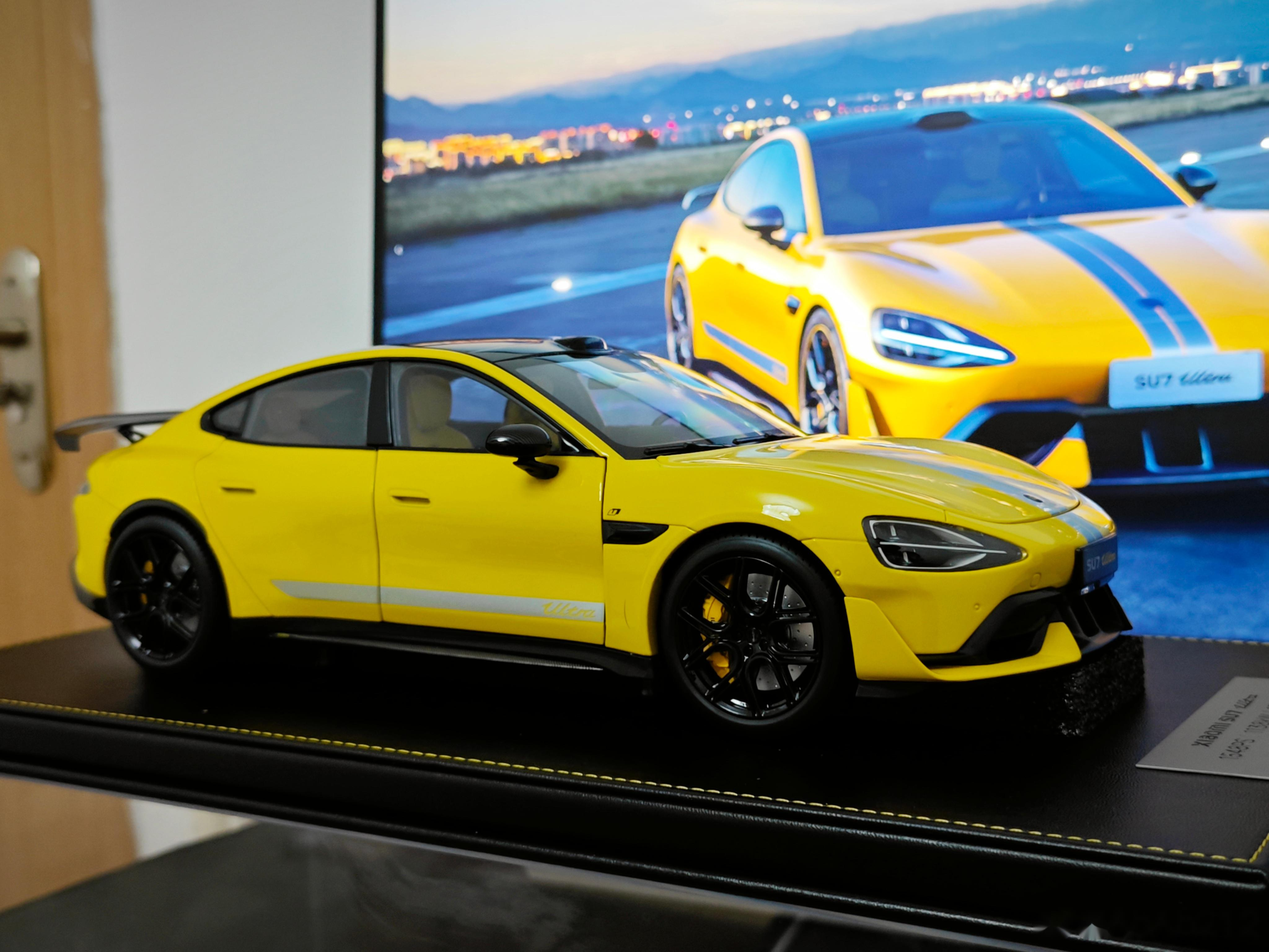su7: (41, 355, 1140, 716), (640, 88, 1269, 492)
